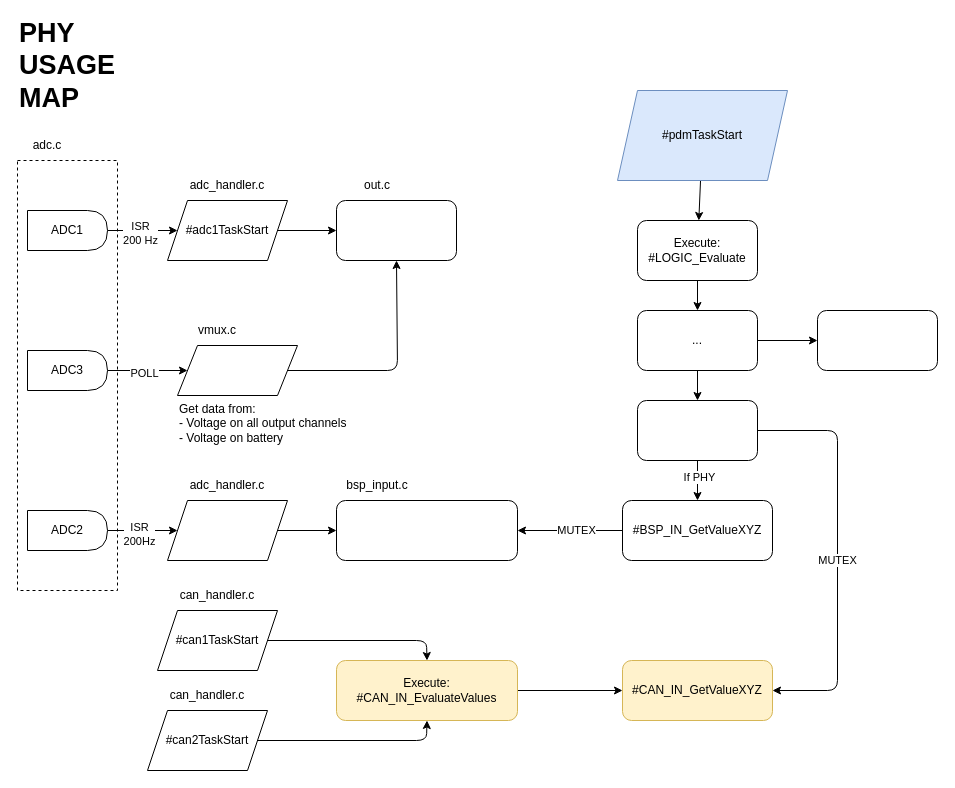
This 955x788 diagram has some shape labels left out. Each missing label, with the box of its shape:
#adc2TaskStart: (166, 500, 288, 560)
#IN_GetValueXYZ: (636, 400, 758, 460)
#OUT_SetState: (816, 310, 938, 370)
#vmuxTaskStart: (176, 344, 298, 396)
Execute: #BSP_IN_EvaluateValues: (336, 500, 518, 560)
Execute: #OUT_DIAG_AllBts(): (336, 200, 456, 260)
